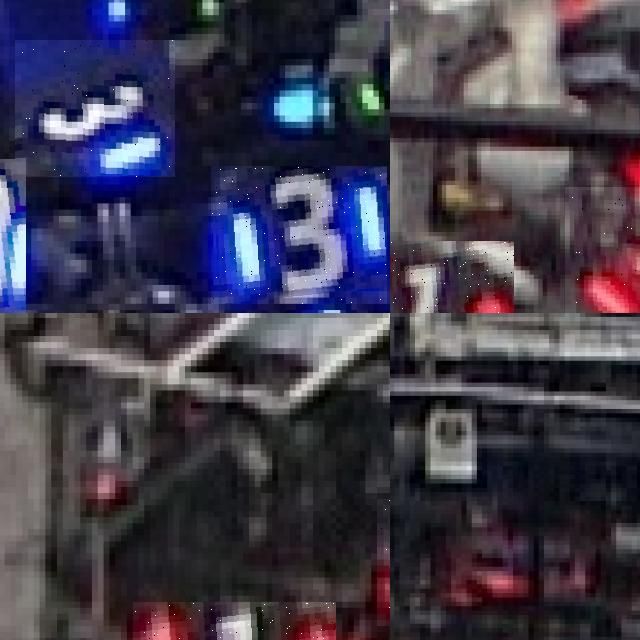B3: (211, 166, 387, 304), (15, 40, 175, 178), (0, 159, 26, 313)
R1: (564, 187, 640, 313), (390, 240, 514, 313), (132, 601, 336, 640)
